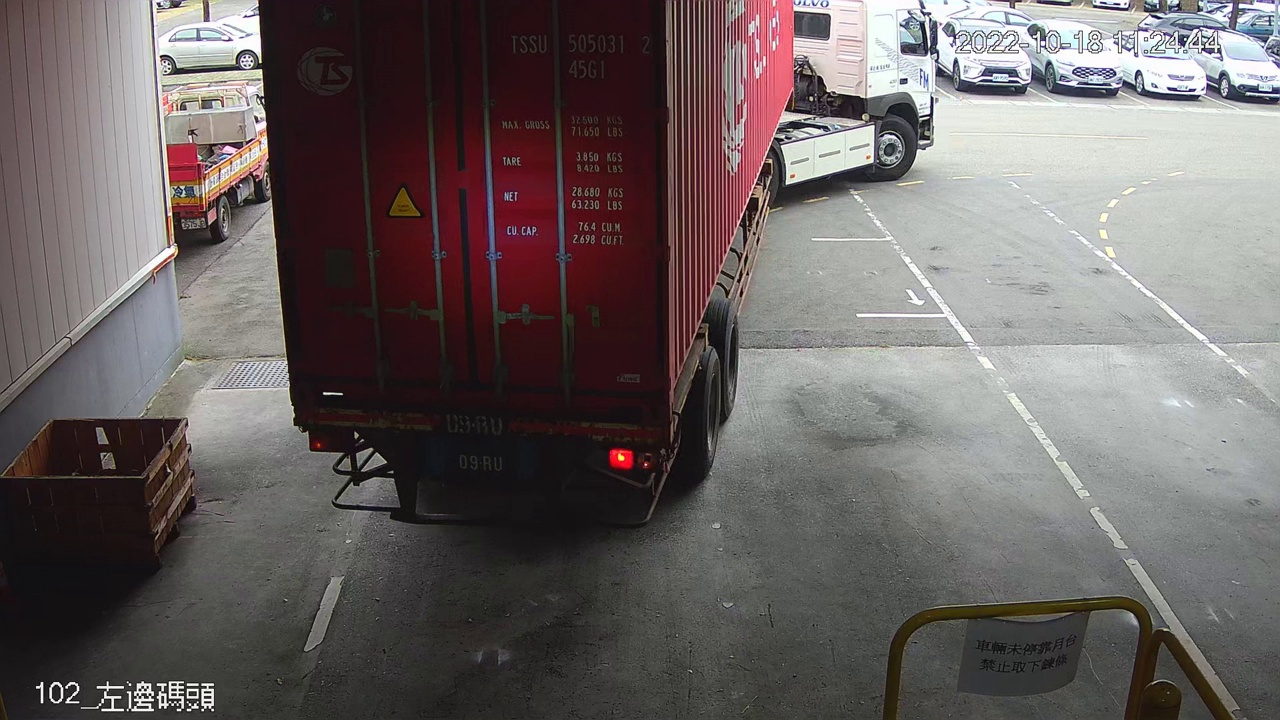container: (505, 26, 657, 83)
